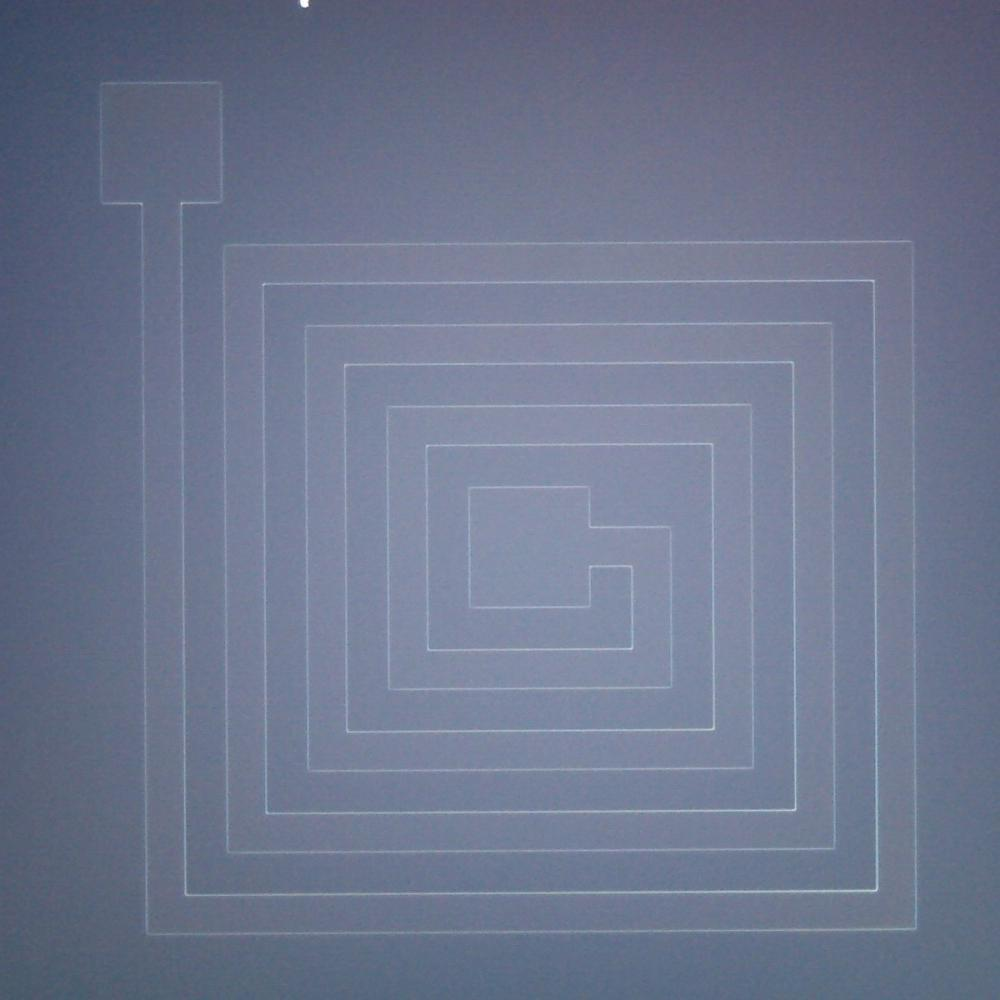dot: (284, 0, 324, 20)
